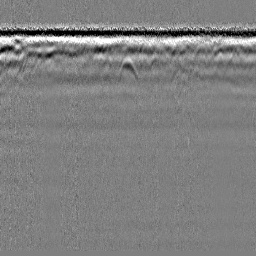cavity: (116, 54, 141, 85)
